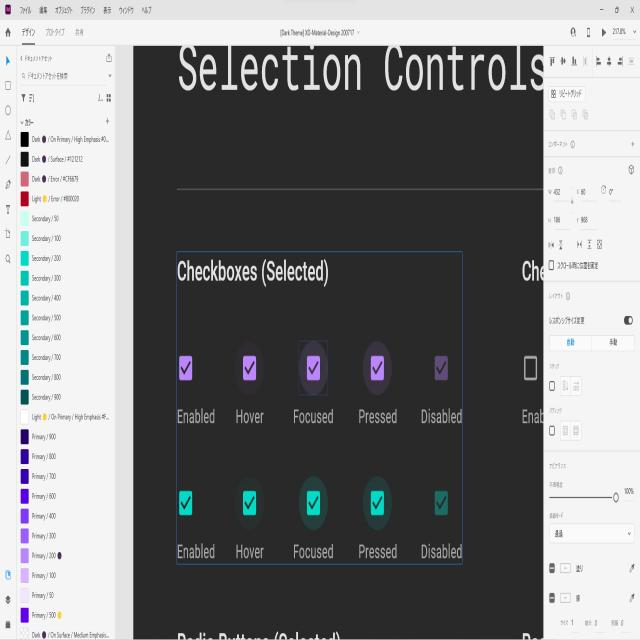checkbox: (176, 487, 195, 519), (241, 353, 258, 383), (240, 489, 257, 519), (178, 354, 195, 382), (433, 490, 450, 518), (433, 355, 450, 382), (306, 488, 321, 518), (306, 352, 320, 384), (369, 490, 385, 518), (371, 353, 384, 382)
